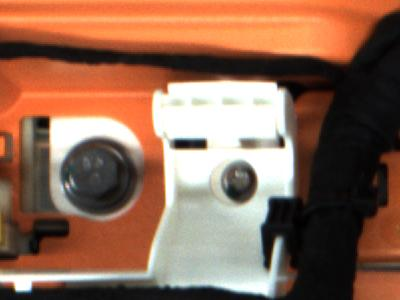nut_b: (55, 135, 145, 221)
